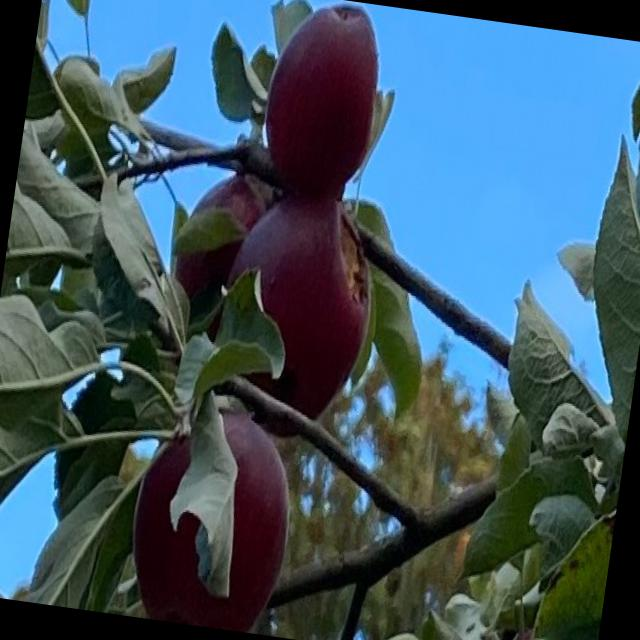Apples: (210, 188, 383, 440), (120, 402, 300, 634), (257, 0, 388, 196), (172, 164, 264, 308)
